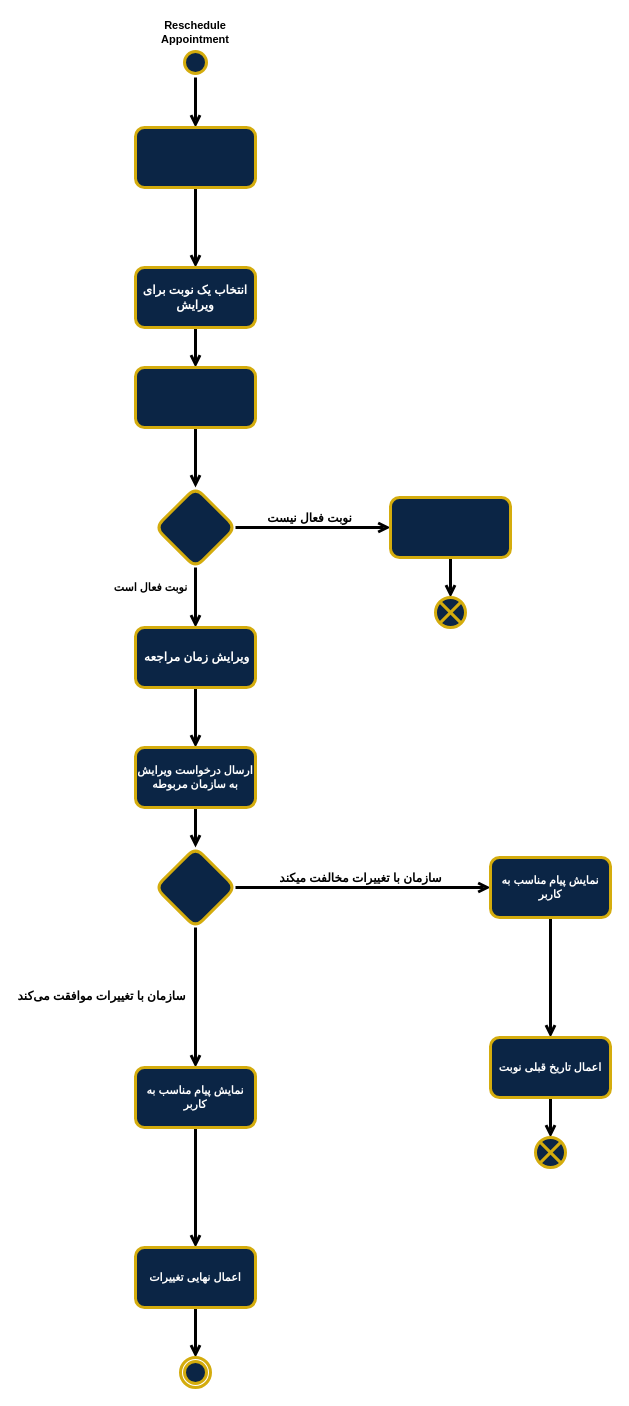
The diagram is 629 pixels wide and 1406 high, and some of its shapes have lost their labels. The centre of each missing label's shape, as x and y in pixels:
مشاهده اطلاعات نوبت: (x=195, y=397)
مشاهده تاریخچه نوبت‌ها: (x=195, y=157)
ویرایش زمان مراجعه قفل است: (x=450, y=527)
